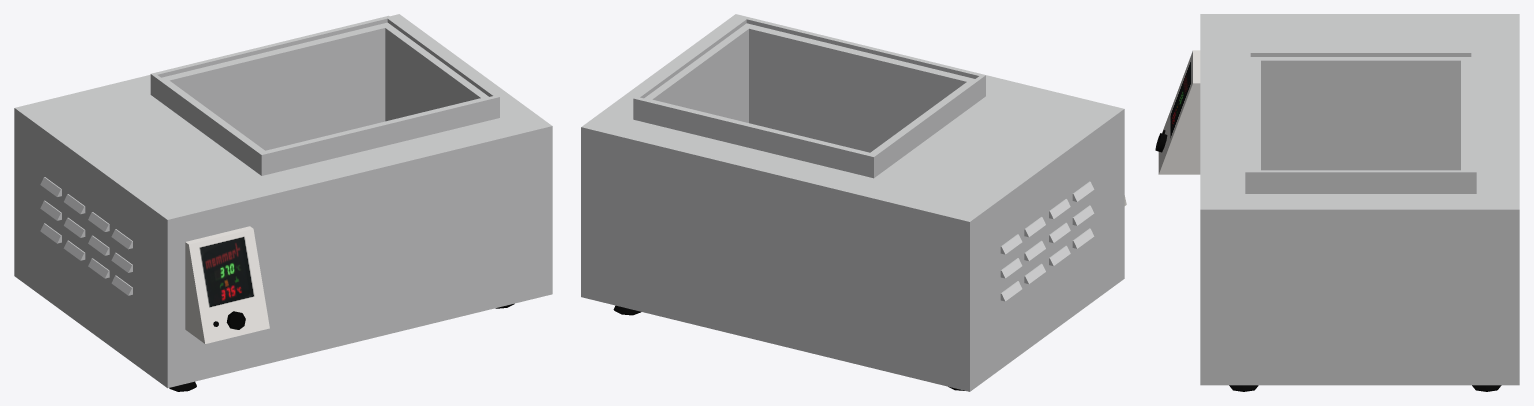
Rendered from Water bath Model Export.fbx.
The picture shows the model from 3 angles, left to right: view 1: azimuth 30°, elevation 25°; view 2: azimuth 150°, elevation 25°; view 3: azimuth 270°, elevation 25°; orthographic projection. The views are drawn at different scales.
Visible parts, largest first — view 1: polySurface1, polySurface2, Frontal; view 2: polySurface1, polySurface2; view 3: polySurface1, polySurface2, Frontal.
Part boxes in pixels (left/top/right/bottom): polySurface1: left=14, top=14, right=552, bottom=388; polySurface2: left=150, top=15, right=499, bottom=175; Frontal: left=185, top=226, right=269, bottom=343; polySurface1: left=581, top=14, right=1124, bottom=391; polySurface2: left=633, top=16, right=985, bottom=178; polySurface1: left=1200, top=14, right=1519, bottom=385; polySurface2: left=1245, top=51, right=1476, bottom=193; Frontal: left=1158, top=50, right=1200, bottom=174.
Bounding box in the file's own units: 10 × 5.03 × 7.76.
3 materials, 1 textured.
